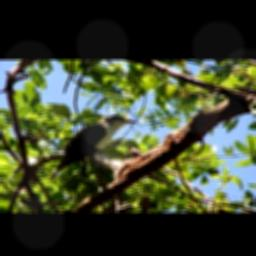Cuckoo: (49, 115, 139, 183)
